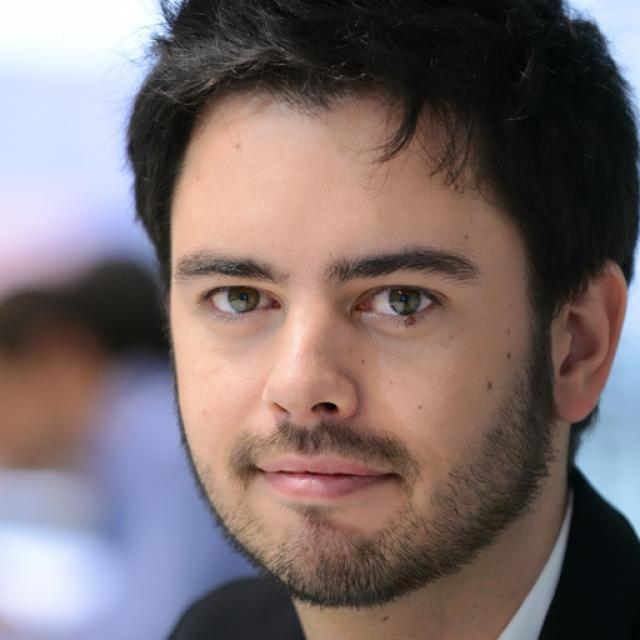content: (170, 86, 548, 610)
